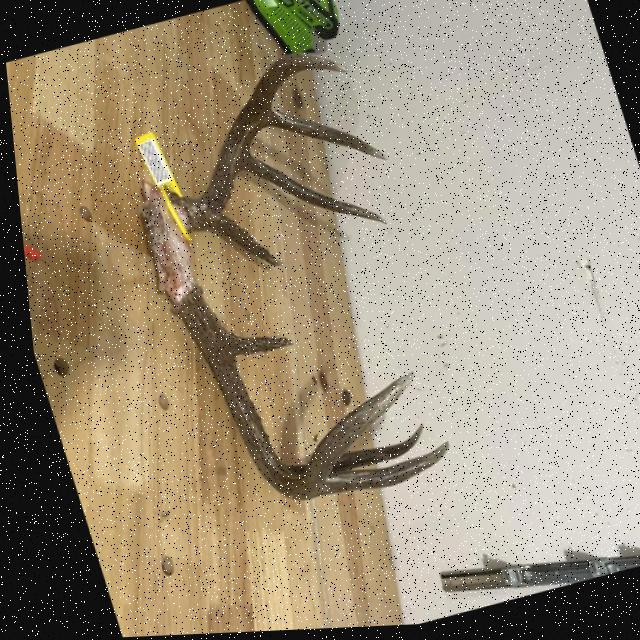L-F: (164, 285, 406, 502)
L-G1: (221, 332, 286, 358)
L-G3: (306, 444, 439, 498)
R-F: (161, 54, 346, 232)
R-G1: (208, 212, 277, 267)
R-G2: (237, 154, 381, 226)
R-G3: (264, 109, 384, 162)
